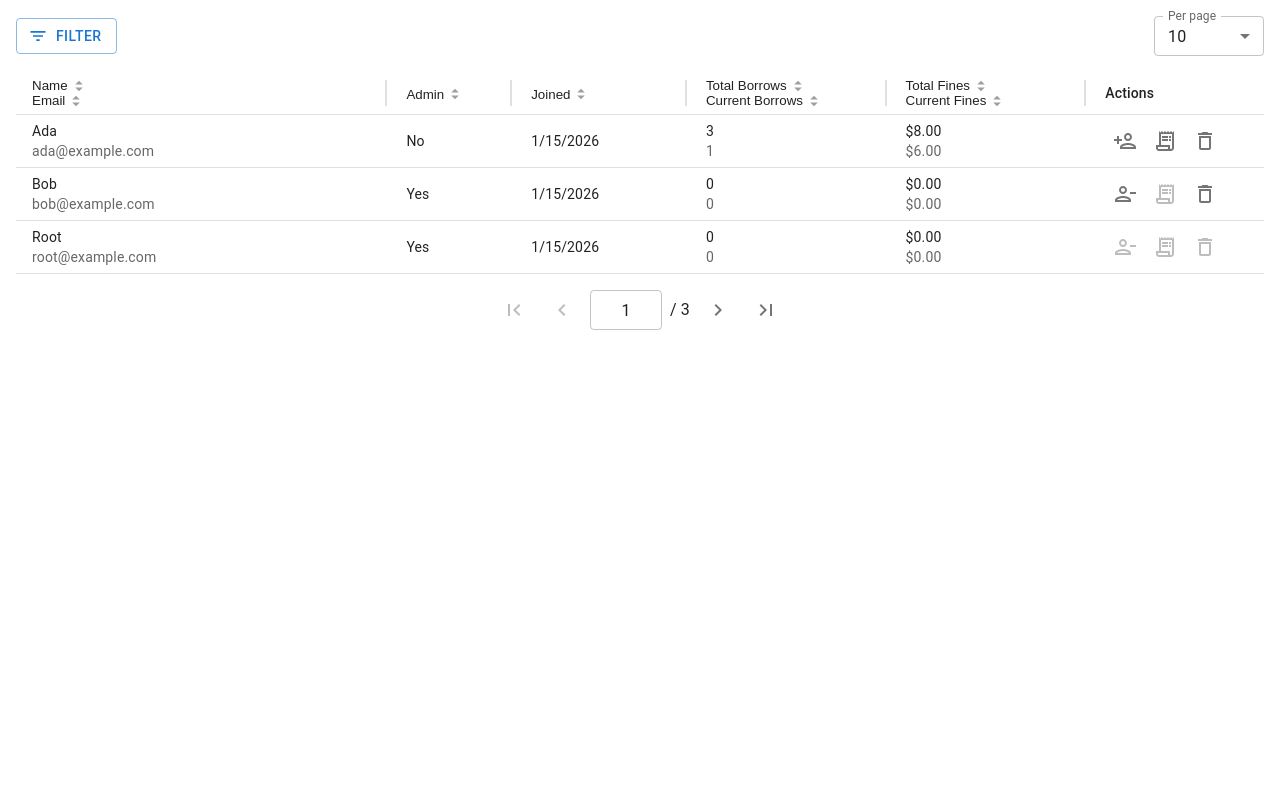
Scenario: UsersPage › shows why a demotion was refused
Click the button with test id "user-demote-2".
click(1125, 194)  # box [1105,174,1145,214]
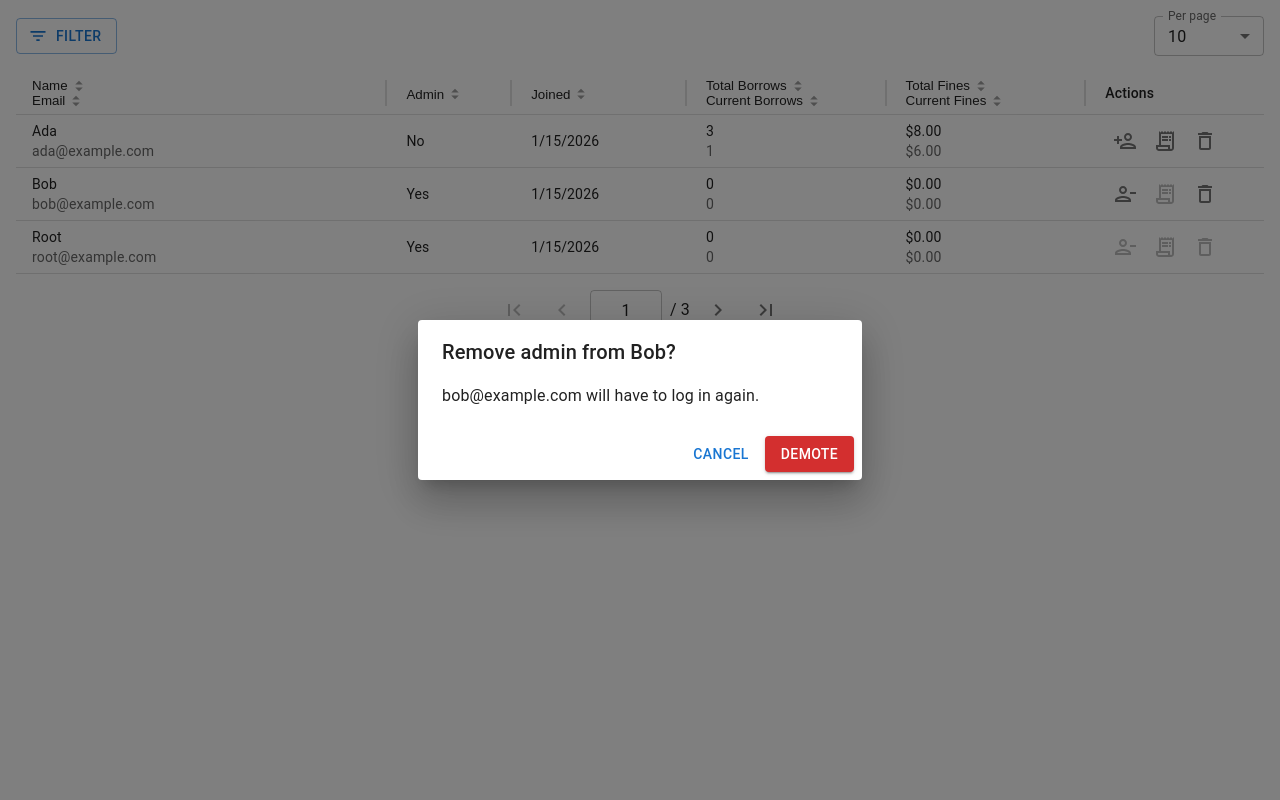
Result: the element with test id "action-dialog" shows "Remove admin from Bob?" at [442,340,676,364]
Click the button with test id "action-confirm".
click(809, 454)  # box [765,436,854,472]
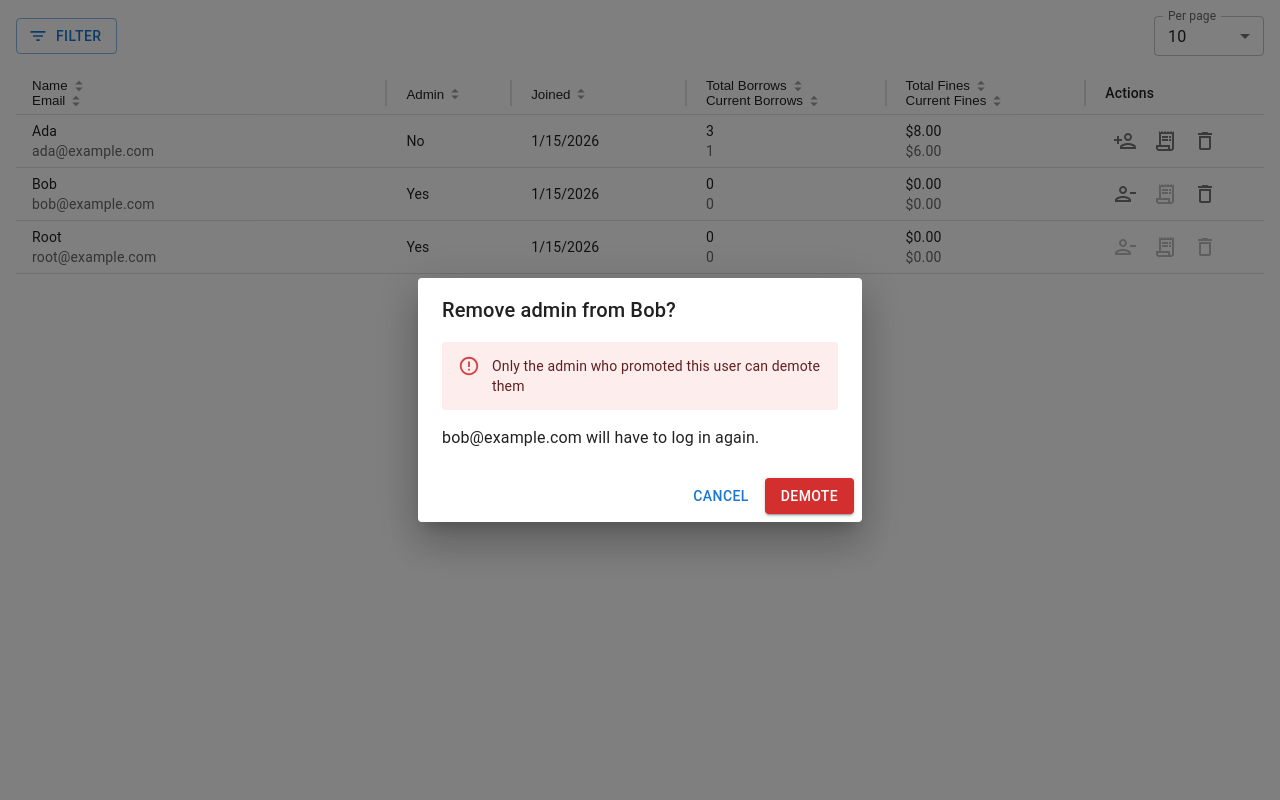
Result: the message with test id "action-error" reads "Only the admin who promoted this user can demote them" at [492,358,820,394]
Click the button with test id "action-cancel".
click(721, 496)  # box [685,478,757,514]
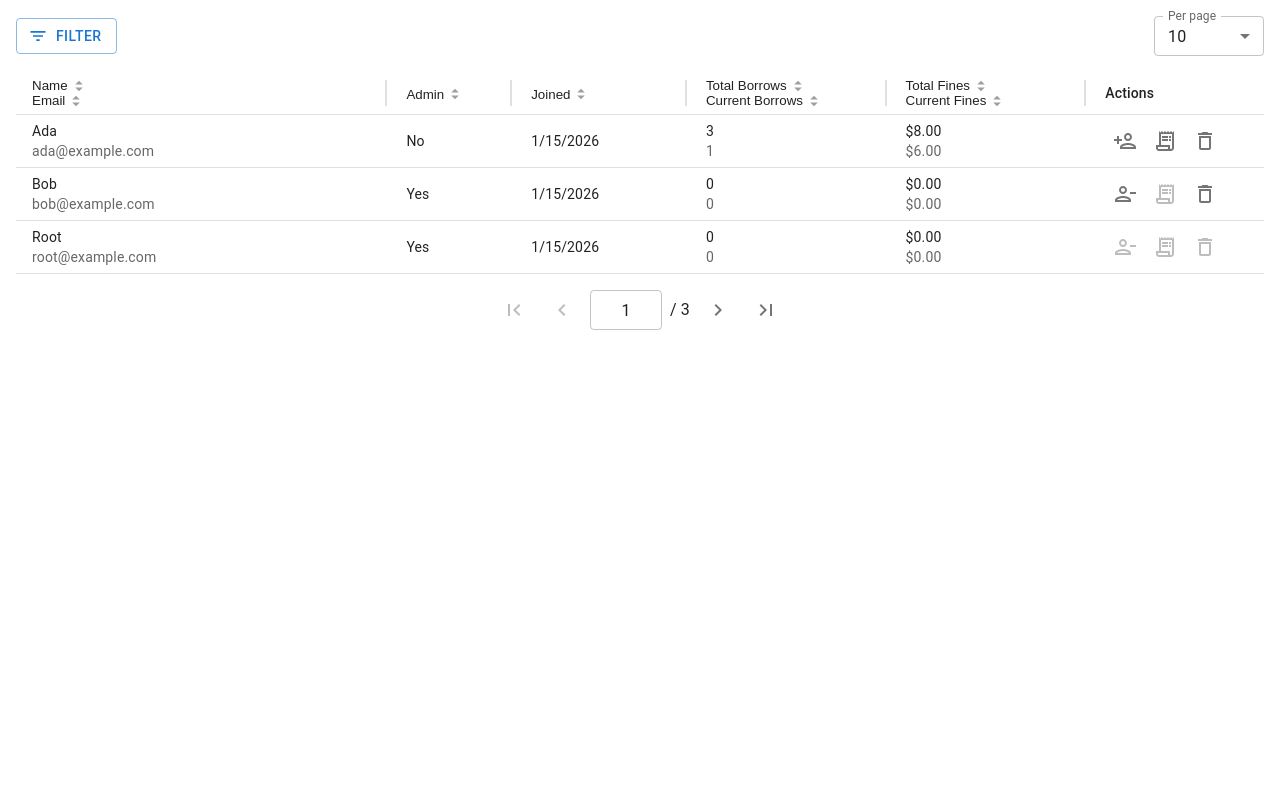
Result: the element with test id "action-dialog" is gone
